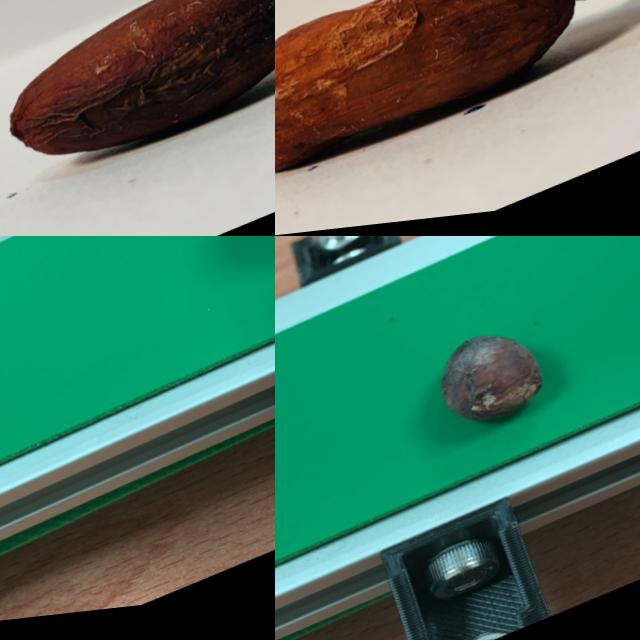Agglomerated_cocoabeans: (275, 0, 639, 235), (154, 236, 274, 378)
Fine_cocoabeans: (334, 273, 639, 515), (0, 0, 274, 235)
